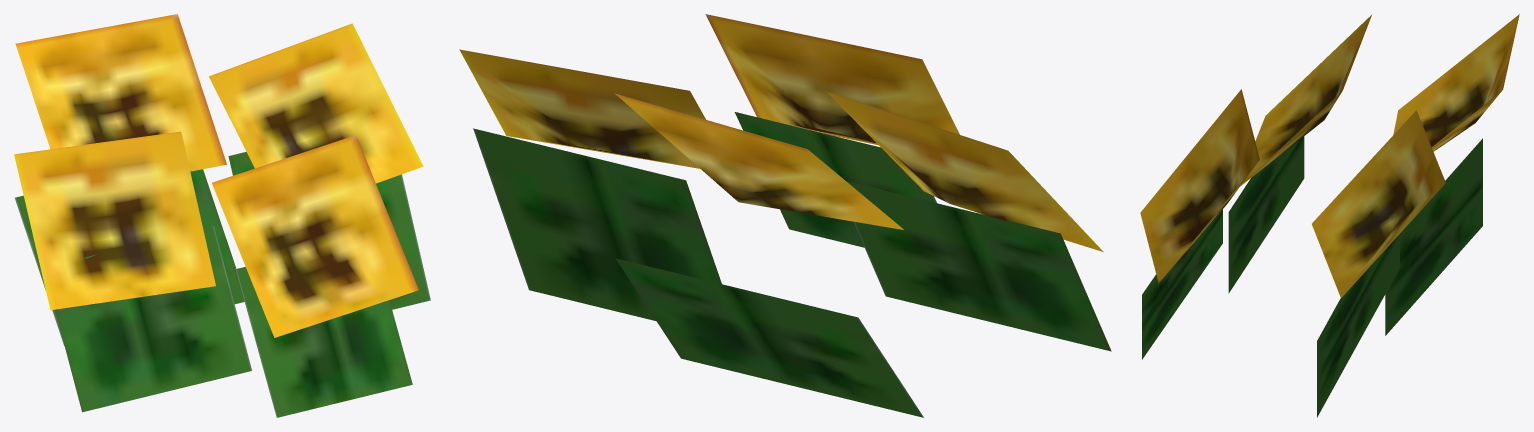
File: flw_pansy_ye.dae
3 views of the same model, side by side, from view 1: azimuth 30°, elevation 25°; view 2: azimuth 150°, elevation 25°; view 3: azimuth 270°, elevation 25° (orthographic). The views are drawn at different scales.
Parts seen in each view (by area): view 1: flw_pansy_ye; view 2: flw_pansy_ye; view 3: flw_pansy_ye.
Part boxes in pixels (<box>): flw_pansy_ye: <box>14,14,430,417</box>; flw_pansy_ye: <box>459,14,1111,417</box>; flw_pansy_ye: <box>1140,14,1519,417</box>.
Size of the model in its own units: 32.39 by 19.38 by 26.27.
1 material, 1 textured.
